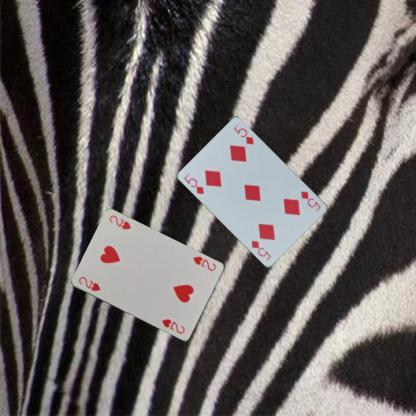2h: (190, 254, 217, 272), (76, 274, 101, 292)
5d: (298, 188, 322, 213), (181, 172, 206, 195)
